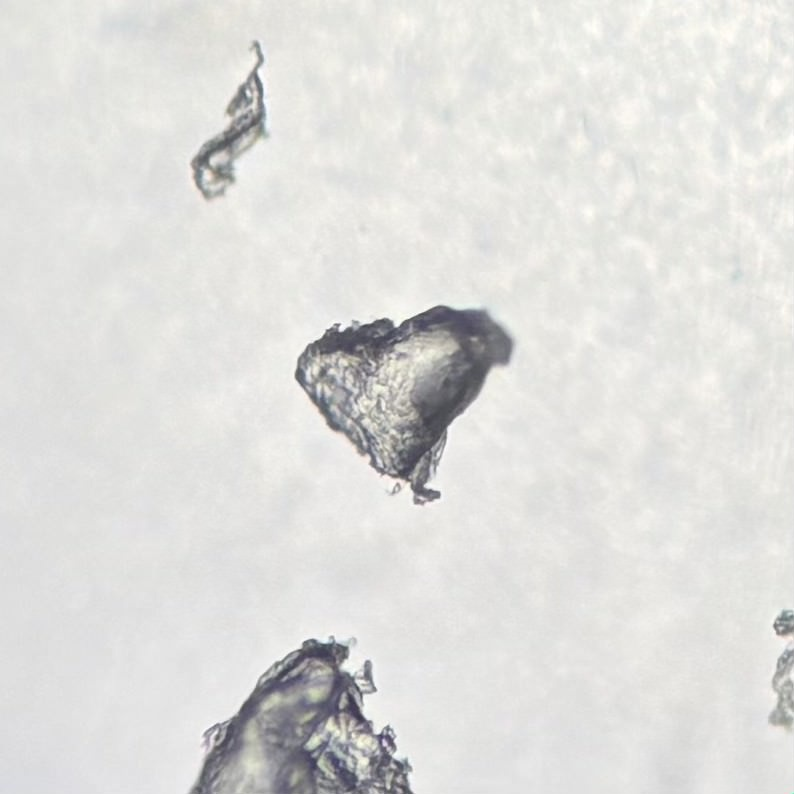microplastic: (291, 304, 519, 509), (184, 634, 419, 794), (189, 36, 272, 201), (760, 604, 794, 730)
